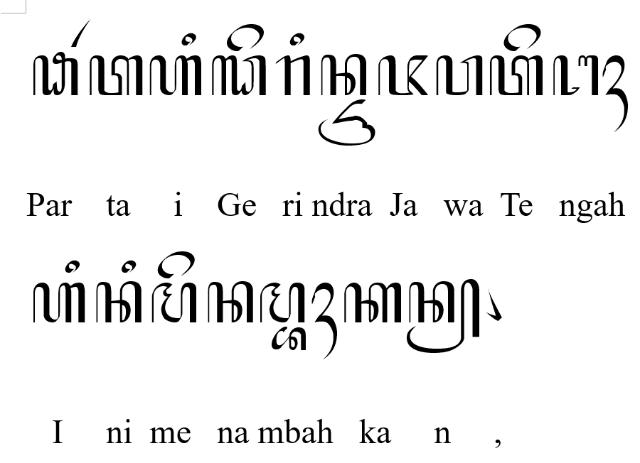-n: (406, 278, 480, 354)
G: (211, 54, 267, 96)
P: (33, 51, 79, 97)
_b: (271, 326, 307, 352)
_h1: (602, 54, 628, 134), (312, 282, 338, 360)
_r1: (71, 19, 91, 47)
dr: (318, 98, 376, 146)
e: (502, 24, 542, 52), (157, 251, 196, 279), (226, 24, 264, 52)
h: (32, 282, 86, 324), (150, 56, 202, 96)
i: (181, 32, 197, 46), (289, 32, 305, 46), (64, 260, 80, 274), (120, 260, 136, 274)
j: (377, 54, 429, 96)
k: (344, 282, 402, 324)
kom: (486, 288, 502, 322)
m: (151, 282, 197, 324), (259, 282, 305, 324)
n: (94, 280, 142, 324), (206, 280, 254, 324), (320, 54, 368, 96)
nga: (552, 54, 600, 96)
r: (275, 55, 311, 97)
t: (88, 54, 144, 96), (488, 55, 544, 96)
w: (435, 56, 483, 96)
